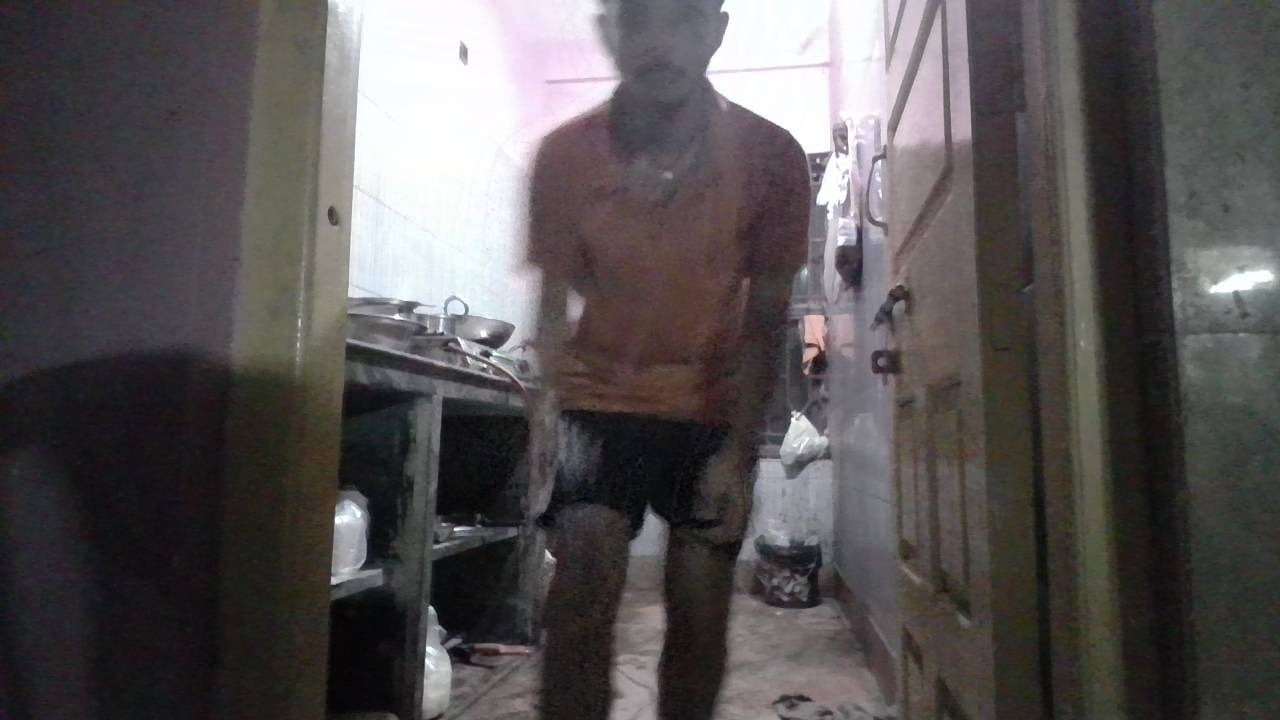red_box: (672, 282, 728, 352), (621, 379, 682, 412)
